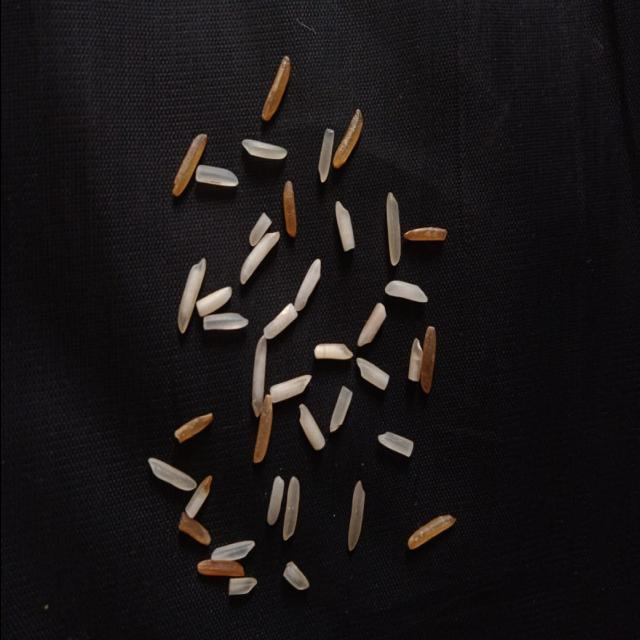Broken: (171, 133, 207, 197), (260, 56, 290, 121), (331, 108, 363, 168), (406, 514, 456, 549), (252, 394, 272, 463), (356, 303, 386, 347), (262, 303, 297, 339), (298, 404, 324, 451), (269, 374, 311, 403), (355, 356, 389, 391), (184, 476, 212, 518), (173, 412, 212, 442), (177, 512, 210, 546), (328, 386, 352, 432), (195, 286, 231, 316), (420, 327, 436, 392), (334, 200, 354, 252), (194, 164, 238, 187), (377, 432, 413, 458), (266, 475, 284, 525), (196, 559, 244, 577), (317, 128, 333, 182), (282, 180, 296, 238), (202, 313, 248, 330), (282, 561, 308, 590), (249, 212, 271, 246), (407, 338, 423, 382), (313, 343, 353, 359), (402, 227, 447, 240), (228, 577, 256, 596)
Full: (177, 258, 206, 334), (240, 232, 280, 284), (147, 458, 196, 492), (292, 258, 320, 310), (251, 336, 266, 418), (347, 480, 364, 550), (385, 192, 400, 266), (282, 476, 299, 540), (210, 540, 254, 563), (383, 280, 427, 302), (241, 139, 287, 160)
